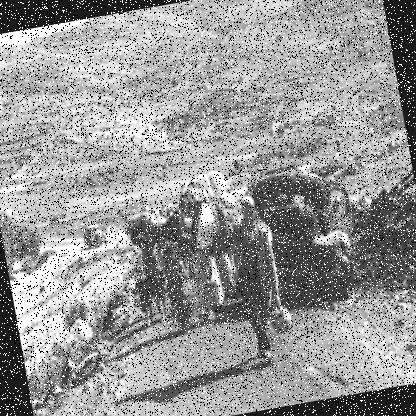Car: (234, 149, 380, 323)
